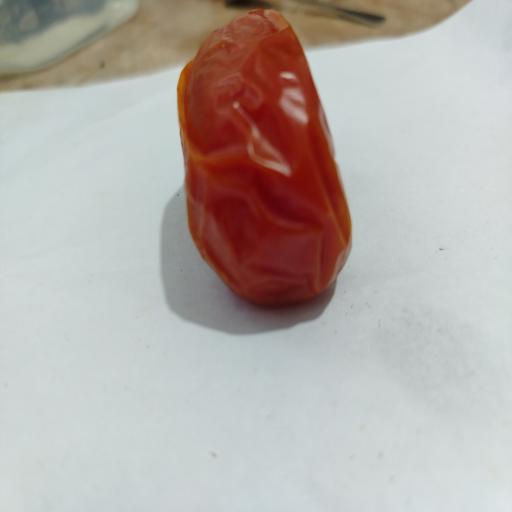spoiled: (178, 10, 351, 304)
